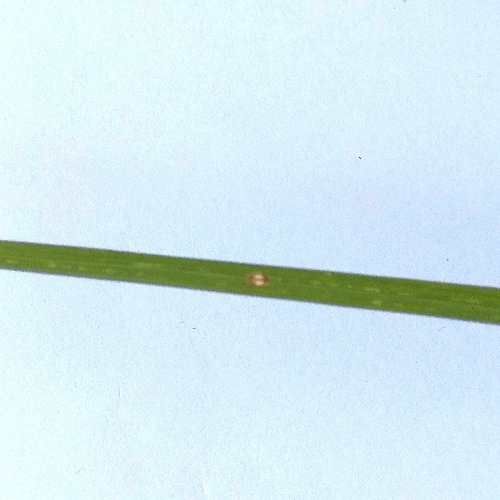Busuk Leher: (245, 269, 272, 292)
